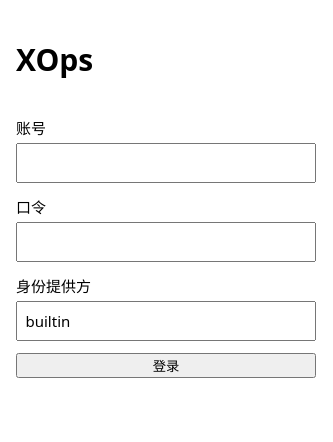
it: 登录页 › 凭证不对只说凭证不对
Type "a" into the field labelled "账号" at (166,163), box [16, 143, 316, 183]
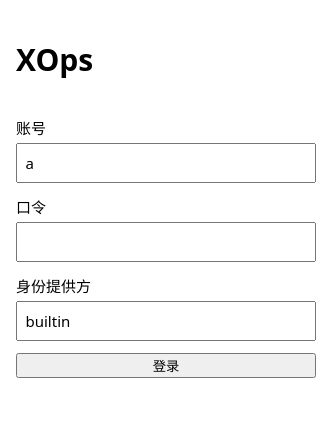
Type "b" into the password field labelled "口令" at (166,242), box [16, 222, 316, 262]
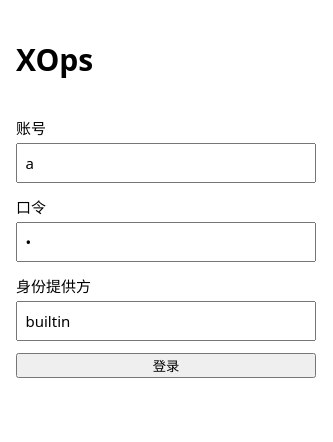
Submit the form "XOps 账号 口令 身份提供方 登录"
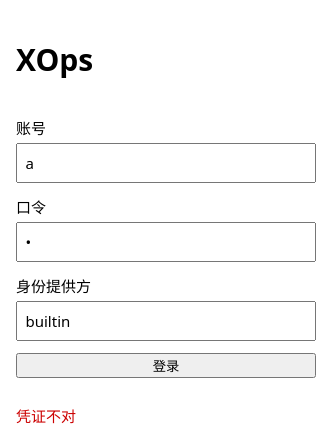
Result: the text "凭证不对" is shown at [16, 406, 76, 426]
